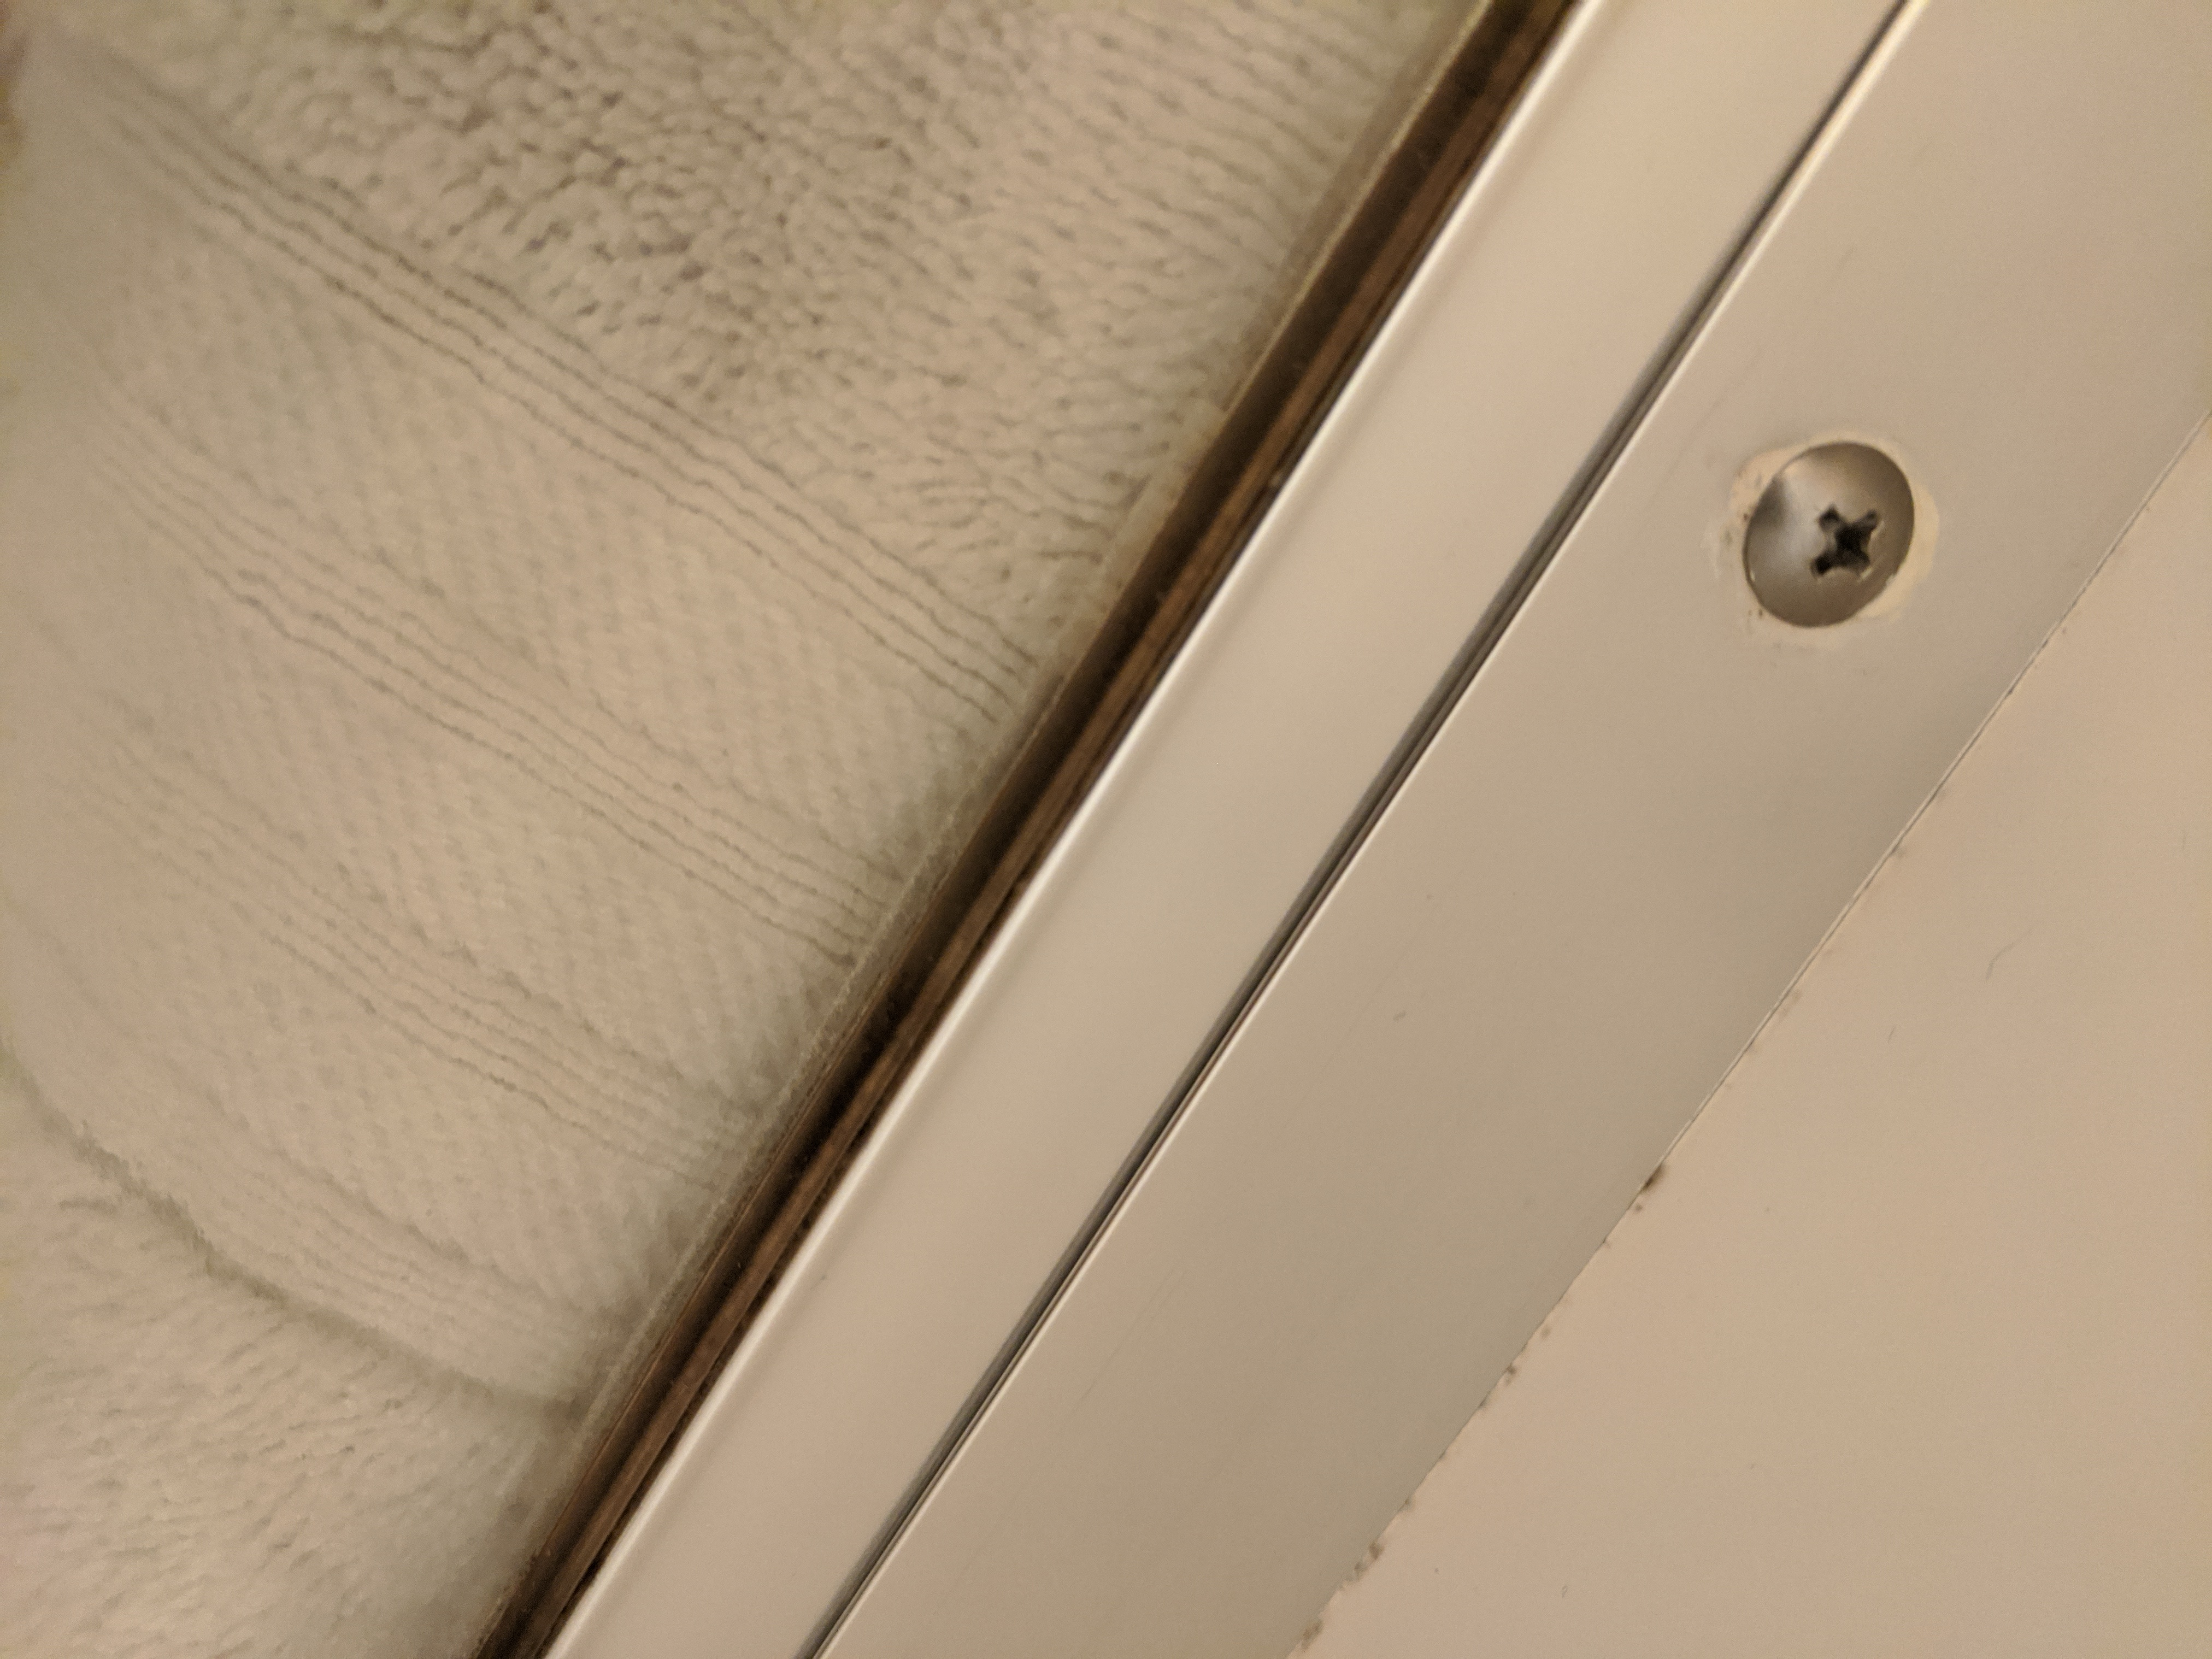cross_recessed_screw: (1757, 432, 1926, 633)
